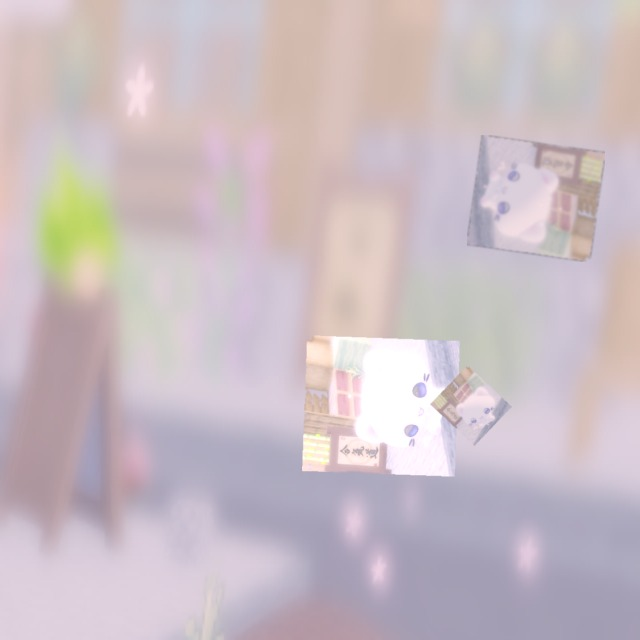urso_branco: (302, 335, 460, 477), (467, 135, 605, 262), (430, 365, 512, 446)
